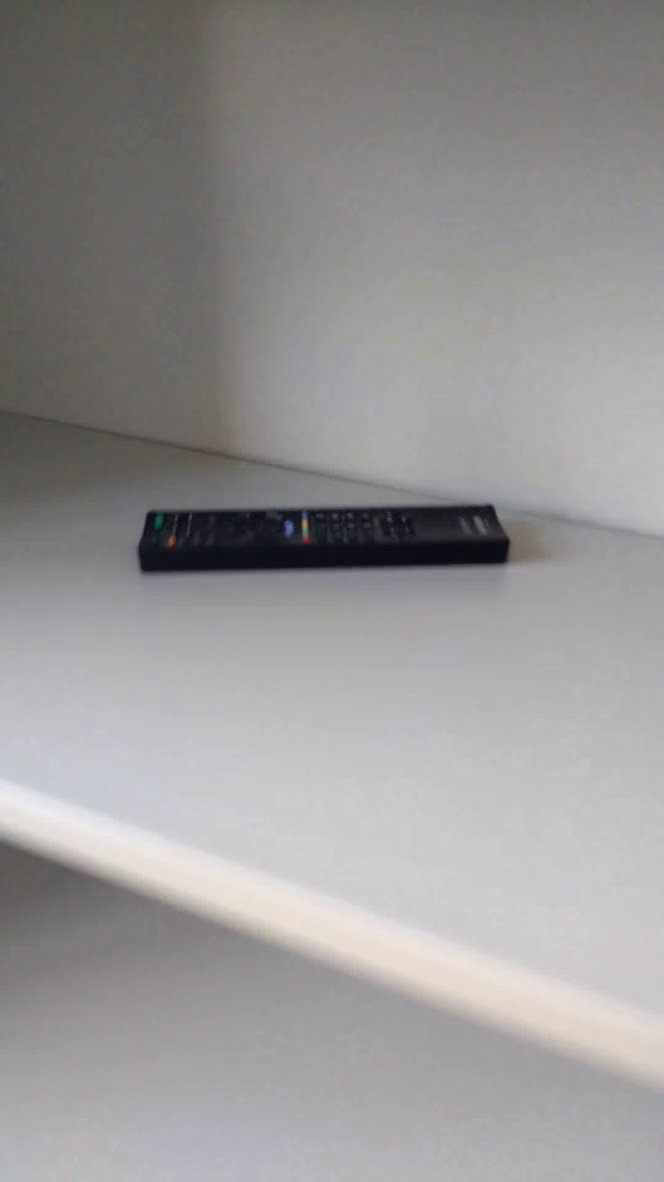remote: (126, 461, 536, 609)
